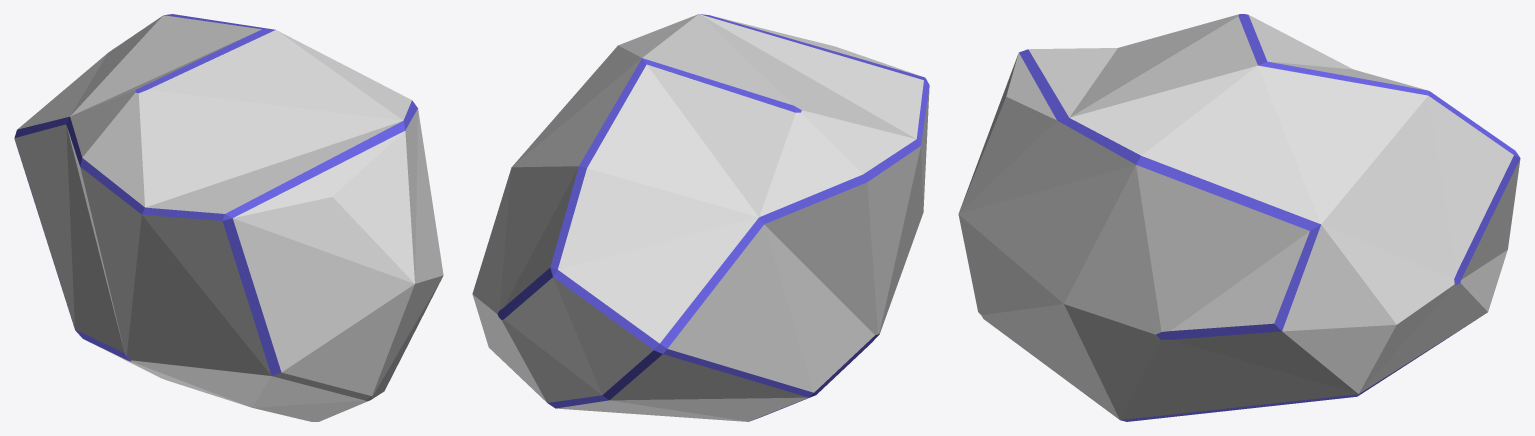
The model's file is stone_008.fbx.
The picture shows the model from 3 angles, left to right: view 1: azimuth 30°, elevation 25°; view 2: azimuth 150°, elevation 25°; view 3: azimuth 270°, elevation 25°; orthographic projection. The views are drawn at different scales.
Parts seen in each view (by area): view 1: Cube.001; view 2: Cube.001; view 3: Cube.001.
Part boxes in pixels (x1,y1,x2,y2): Cube.001: [14, 14, 443, 421]; Cube.001: [472, 14, 929, 421]; Cube.001: [958, 14, 1520, 421].
Bounding box in the file's own units: 232 × 219 × 331.
